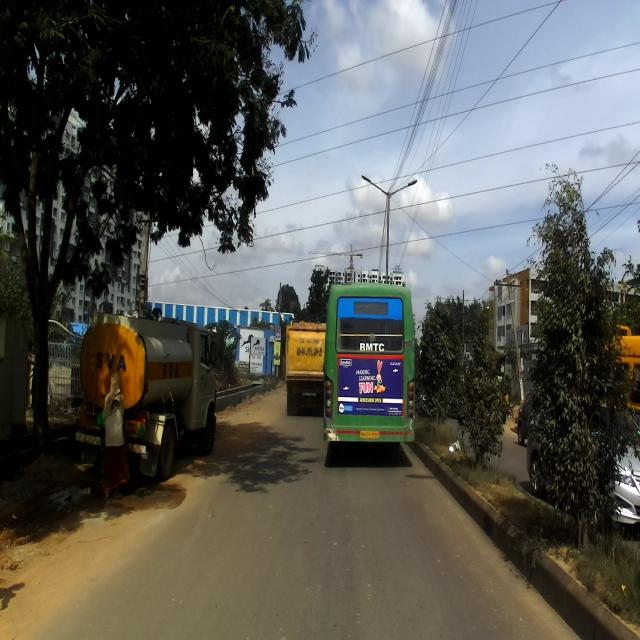bus: (322, 282, 417, 459)
car: (525, 404, 639, 530)
truck: (73, 298, 220, 481)
